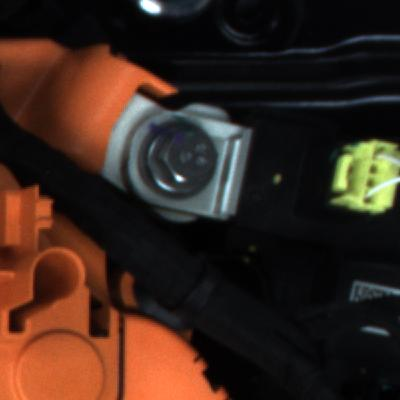nut_b: (133, 122, 224, 201)
